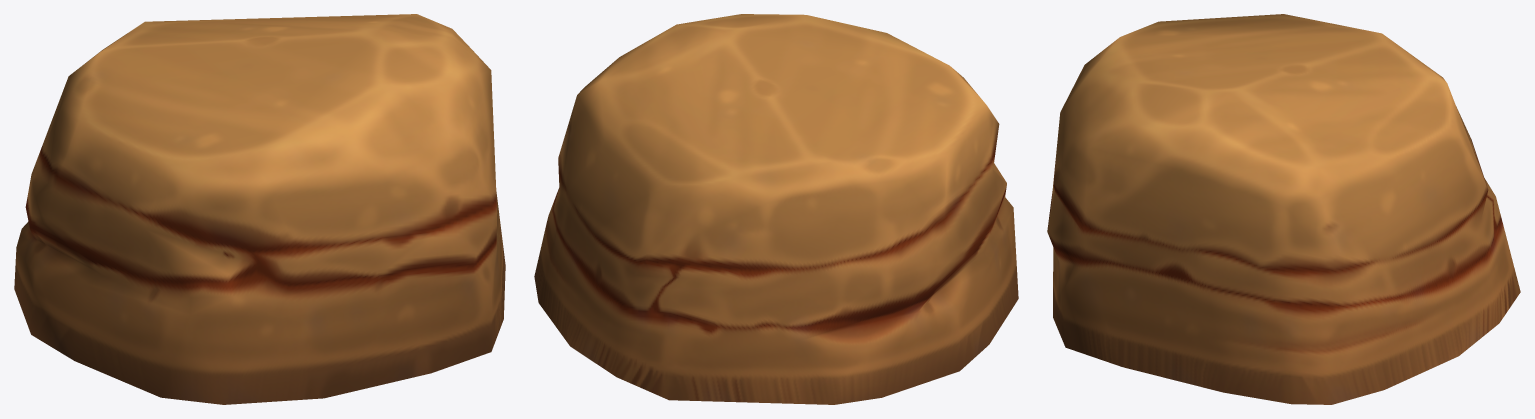
File: Rock_Large_03.fbx
The picture shows the model from 3 angles, left to right: view 1: azimuth 30°, elevation 25°; view 2: azimuth 150°, elevation 25°; view 3: azimuth 270°, elevation 25°; orthographic projection. The views are drawn at different scales.
Parts seen in each view (by area): view 1: Rock_Large_03; view 2: Rock_Large_03; view 3: Rock_Large_03.
Part boxes in pixels (left/top/right/bottom): Rock_Large_03: left=14, top=14, right=505, bottom=404; Rock_Large_03: left=534, top=14, right=1018, bottom=404; Rock_Large_03: left=1047, top=14, right=1520, bottom=404.
Bounding box in the file's own units: 39.24 × 21.62 × 38.08.
